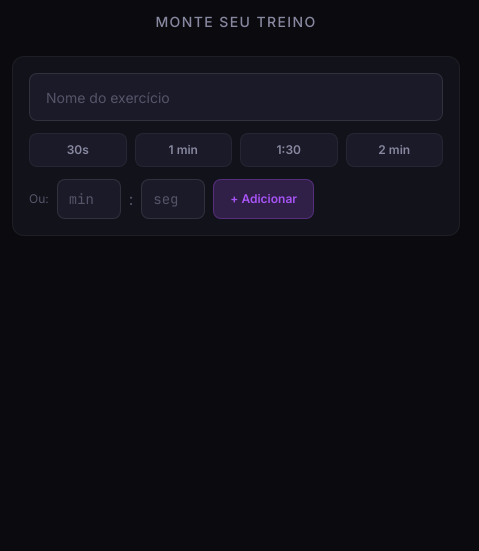
Test: WorkoutBuilder › adiciona exercício com preset de duração
Type "Flexão" into the field with placeholder "Nome do exercício" at (236, 97), box [29,73,443,121]
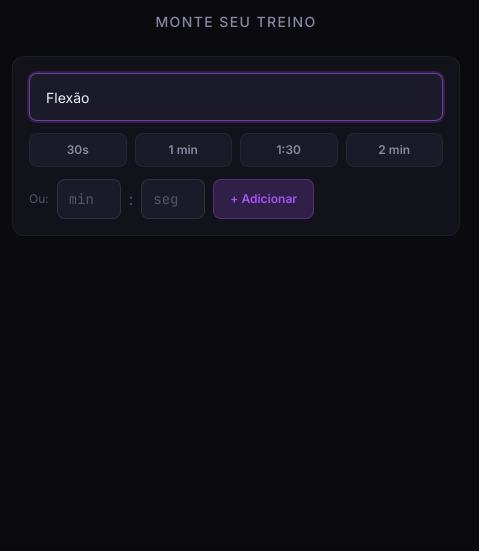
Click the button "30s" at (78, 150), box [29,133,126,167]
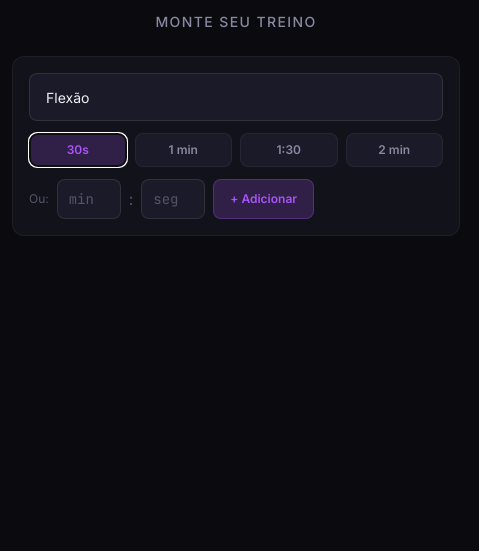
Click the button "+ Adicionar" at (264, 199), box [213,179,314,219]
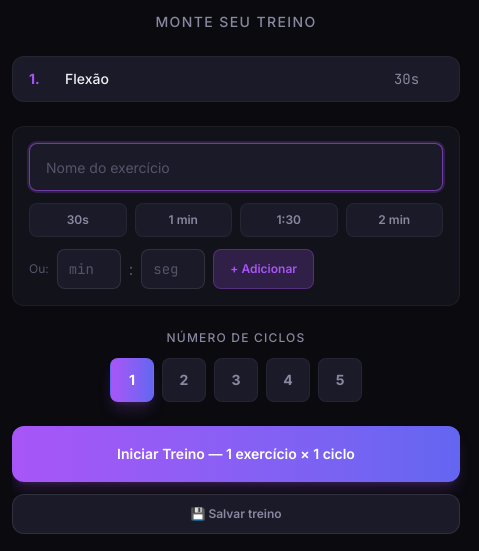
Check: the text "Flexão" is shown, box [65,70,109,87]
Check: the text "1." is shown, box [29,70,40,87]
